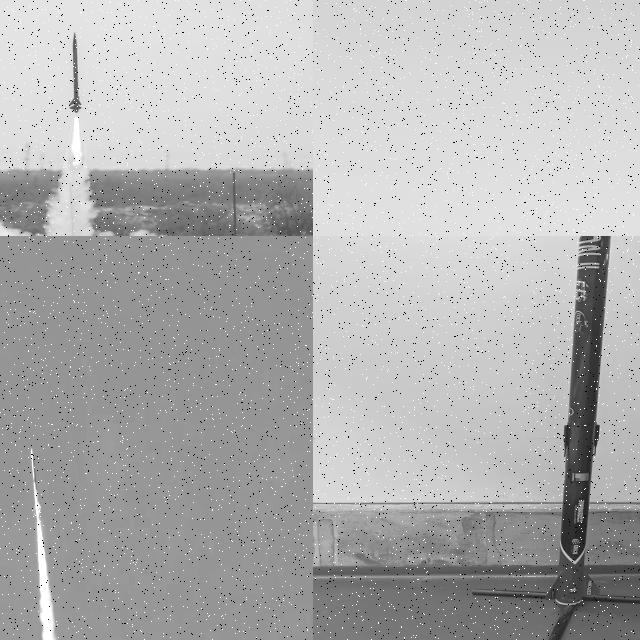Rocket: (545, 236, 612, 606), (70, 32, 82, 114), (31, 448, 41, 517)
